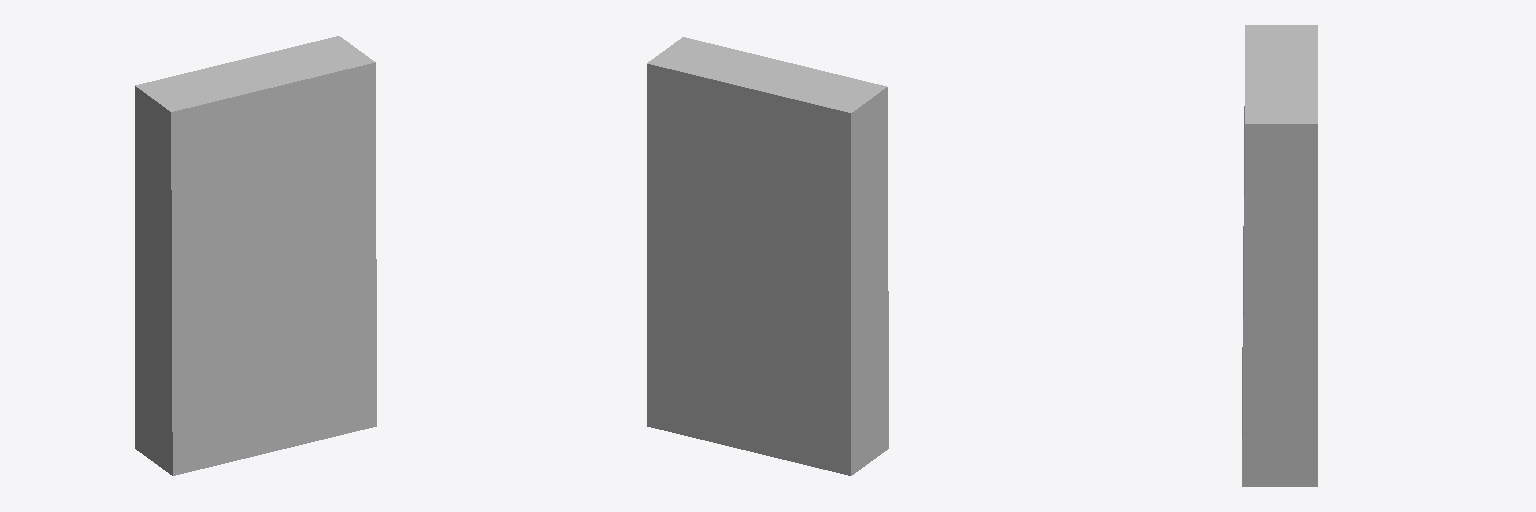
File: Cart_pocket_collision_8.obj
3 views of the same model, side by side, from view 1: azimuth 30°, elevation 25°; view 2: azimuth 150°, elevation 25°; view 3: azimuth 270°, elevation 25° (orthographic).
Size of the model in its own units: 0.2148 by 0.3644 by 0.069.